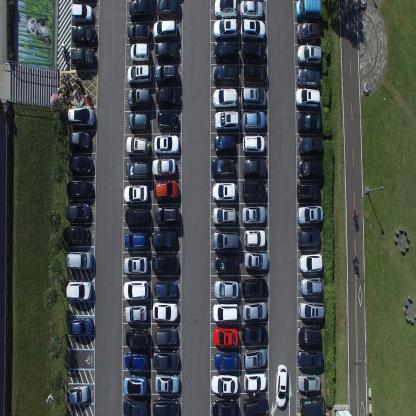car: (65, 178, 94, 201), (212, 18, 238, 43), (212, 87, 239, 111), (241, 62, 268, 86), (67, 106, 95, 129), (275, 363, 289, 408), (297, 110, 322, 135), (242, 301, 268, 325), (154, 134, 180, 158), (154, 62, 178, 88), (212, 229, 239, 252), (152, 350, 180, 372), (151, 253, 179, 275), (211, 375, 239, 397), (294, 0, 322, 22), (213, 40, 238, 64), (127, 62, 152, 86), (213, 277, 239, 300), (66, 280, 92, 303), (294, 86, 320, 109), (241, 40, 267, 63), (240, 18, 266, 41), (240, 86, 267, 108), (212, 302, 240, 323), (296, 159, 324, 180), (127, 85, 151, 109), (153, 18, 177, 42), (298, 134, 323, 157), (298, 350, 324, 372), (243, 250, 269, 272), (242, 276, 268, 298), (153, 182, 179, 204), (152, 229, 178, 251), (123, 278, 149, 300), (152, 300, 178, 322), (242, 394, 268, 416), (122, 375, 148, 397), (214, 110, 240, 132), (212, 64, 238, 86), (63, 224, 89, 246), (154, 87, 181, 108), (64, 202, 91, 223), (298, 324, 322, 347), (125, 231, 149, 254), (297, 226, 321, 249), (155, 205, 180, 227), (125, 208, 150, 230), (154, 373, 179, 395), (71, 24, 96, 46), (299, 301, 325, 322), (124, 328, 150, 349), (68, 154, 94, 175), (67, 319, 94, 339), (211, 157, 234, 180), (71, 2, 94, 25), (214, 326, 238, 348), (212, 205, 236, 227), (214, 253, 238, 275), (124, 302, 148, 324), (243, 348, 267, 370), (126, 160, 150, 182), (152, 157, 176, 179), (126, 137, 150, 159), (212, 182, 236, 204), (241, 179, 265, 201), (296, 20, 320, 42), (71, 46, 95, 68), (297, 43, 322, 64), (154, 41, 179, 62), (67, 131, 92, 152), (123, 256, 149, 276), (214, 352, 240, 372), (297, 204, 323, 224), (66, 252, 93, 271), (242, 133, 265, 155), (154, 326, 178, 347), (244, 372, 268, 393), (124, 352, 148, 373), (152, 398, 180, 416), (124, 186, 149, 206), (298, 253, 323, 273), (241, 325, 267, 344), (155, 0, 181, 19), (300, 398, 327, 416), (211, 398, 238, 416), (213, 133, 235, 155), (298, 375, 321, 396), (242, 206, 266, 226), (154, 280, 178, 300), (65, 386, 89, 406), (242, 158, 266, 178), (297, 181, 321, 201), (129, 0, 153, 20), (126, 22, 150, 42), (239, 0, 264, 19), (122, 398, 148, 416), (244, 228, 266, 249), (300, 276, 322, 297), (157, 111, 179, 132), (243, 110, 266, 130), (128, 110, 148, 133), (297, 68, 321, 87), (214, 0, 238, 19), (130, 42, 151, 63)
